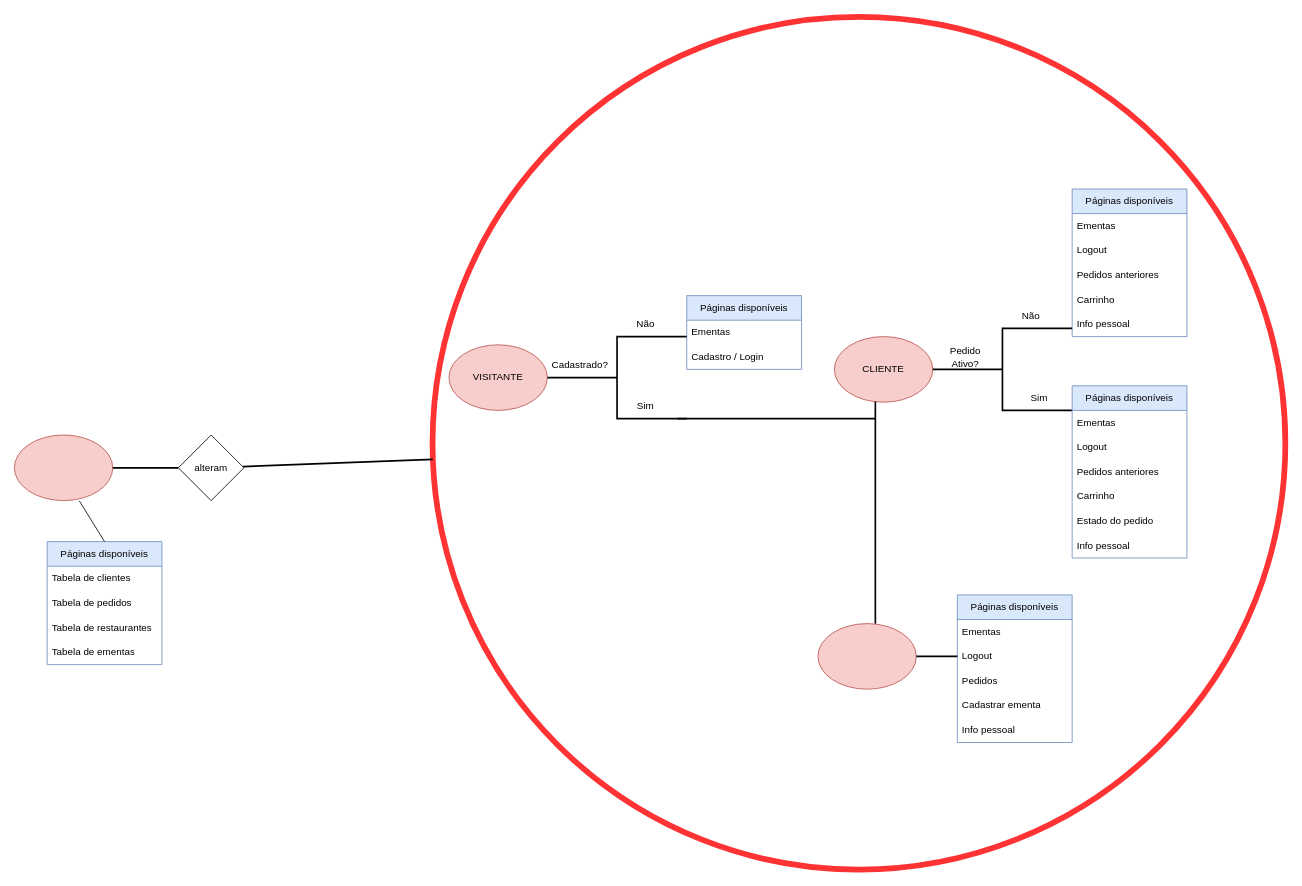
This 1302x886 diagram has some shape labels left out. Here are the shapes that lost their labels. From the top down, the box of each, then its label:
(14, 434, 113, 501): ADMINISTRADORES
(817, 623, 916, 689): RESTAURANTE
